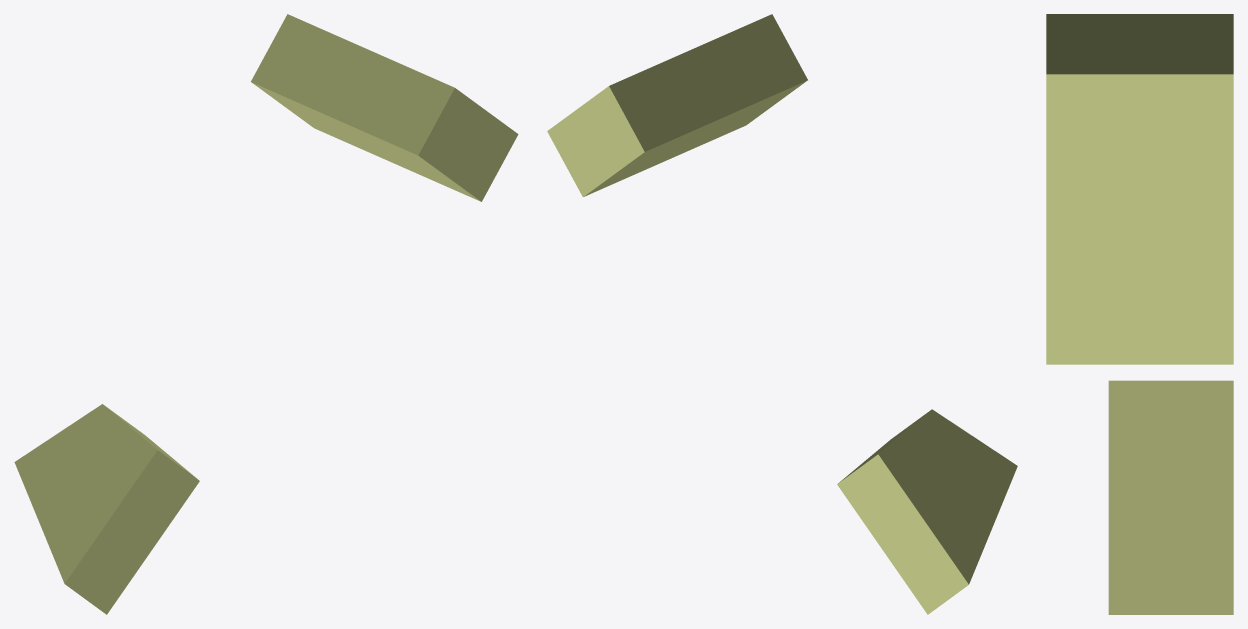
3 views of the same model, side by side, from view 1: azimuth 30°, elevation 25°; view 2: azimuth 150°, elevation 25°; view 3: azimuth 270°, elevation 25° (orthographic). The views are drawn at different scales.
Visible parts, largest first — view 1: 0_0_1_3_2_2_2_0_1; view 2: 0_0_1_3_2_2_2_0_1; view 3: 0_0_1_3_2_2_2_0_1.
Boxes of the visible parts, x1=… form: 0_0_1_3_2_2_2_0_1: x1=14, y1=14, x2=518, y2=614; 0_0_1_3_2_2_2_0_1: x1=547, y1=14, x2=1017, y2=614; 0_0_1_3_2_2_2_0_1: x1=1046, y1=14, x2=1233, y2=614.
Bounding box in the file's own units: 36.08 × 40.34 × 9.
